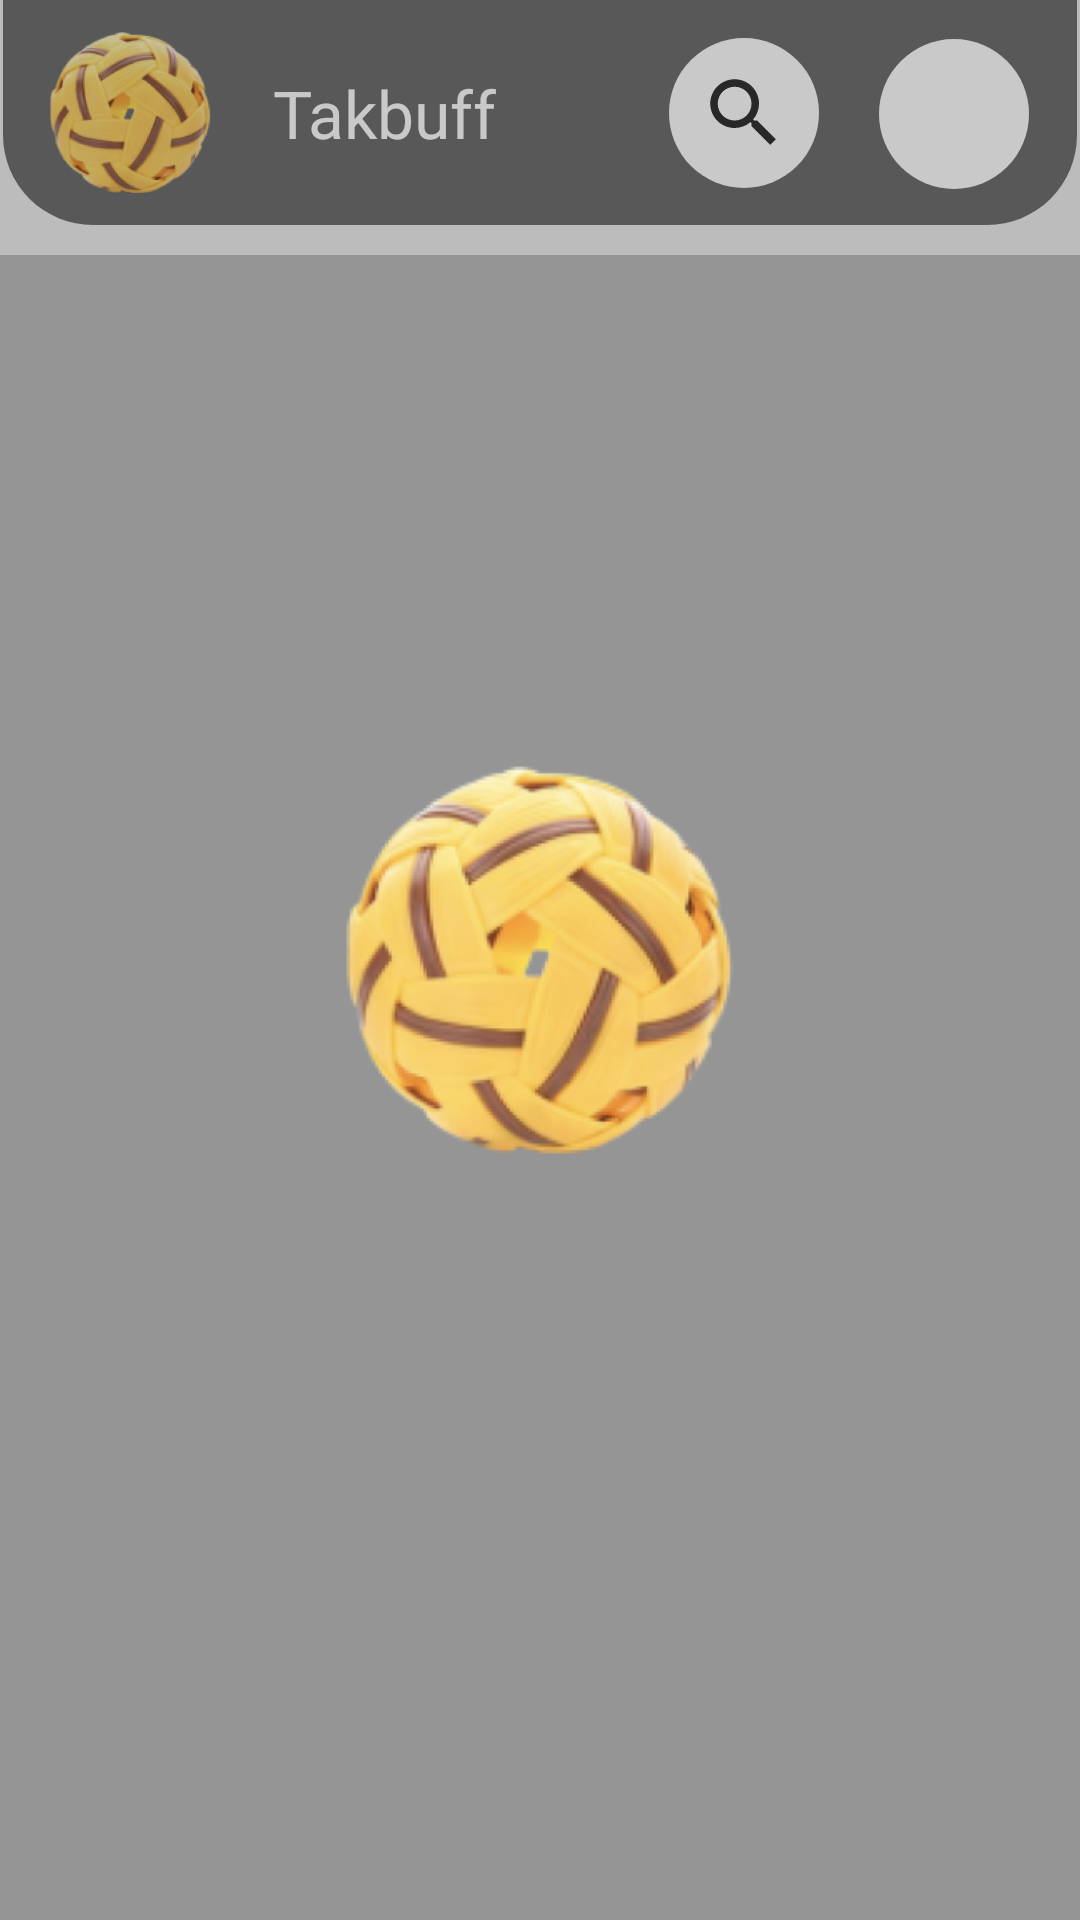

Where icons sit on this 1080 x 1920 app screen, as (x1, y1, x2, y2):
search: (669, 38, 819, 188)
